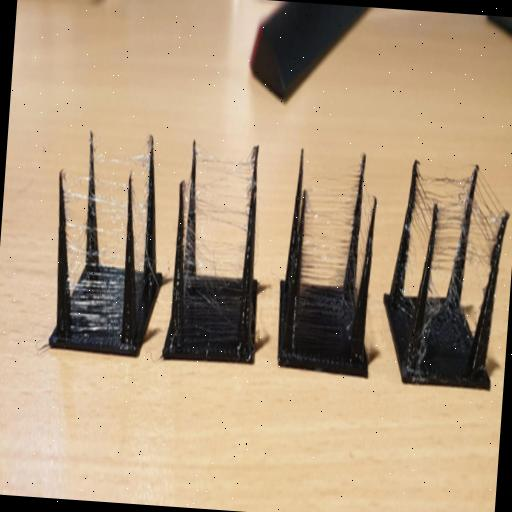stringing: (66, 180, 126, 341), (300, 161, 361, 287), (196, 145, 253, 279), (95, 137, 149, 272), (412, 169, 472, 258), (432, 210, 502, 280), (180, 170, 201, 338), (469, 170, 505, 267), (64, 162, 87, 293), (132, 146, 148, 313), (355, 172, 374, 305), (421, 281, 443, 364), (404, 227, 418, 296)
